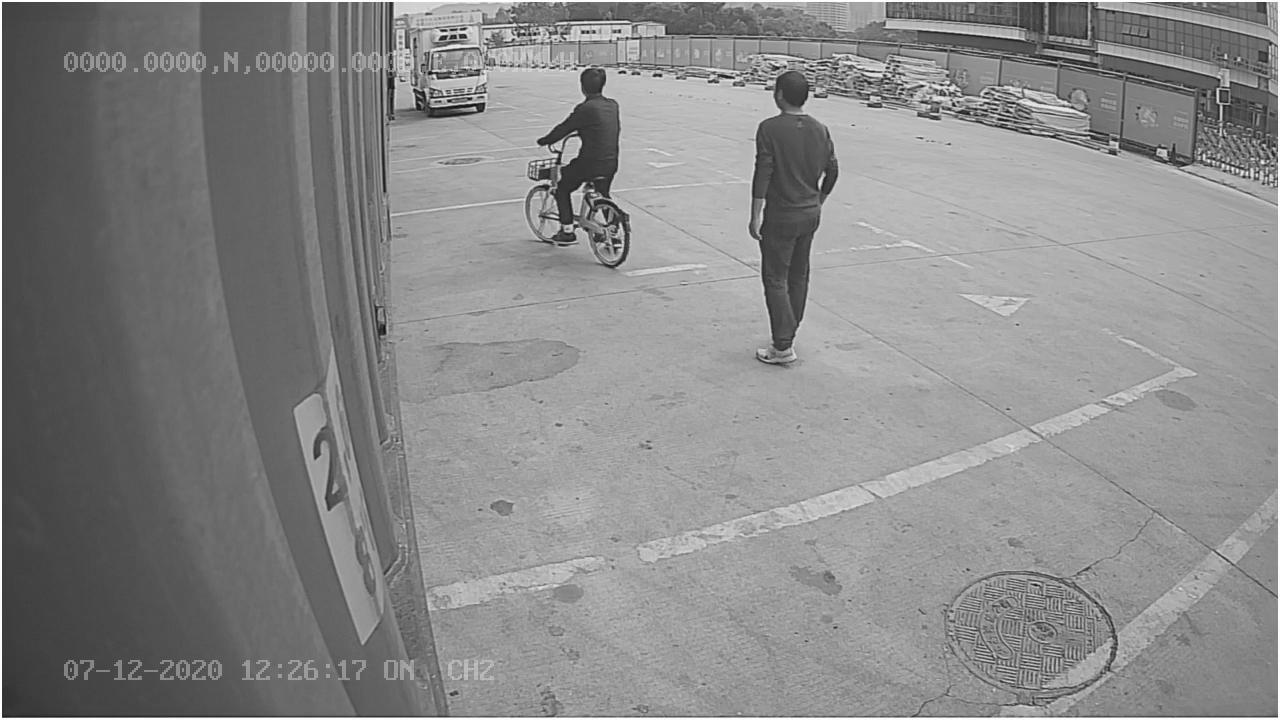person: (744, 67, 844, 369)
